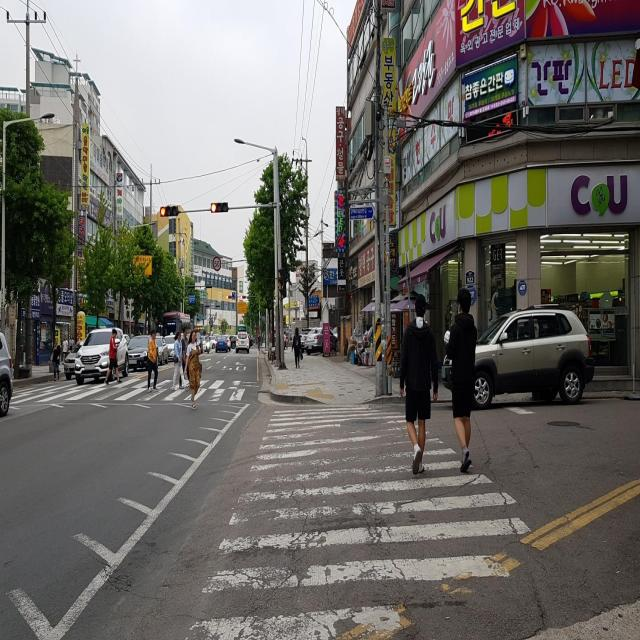횡단보도: (184, 402, 533, 640), (9, 370, 254, 405)
